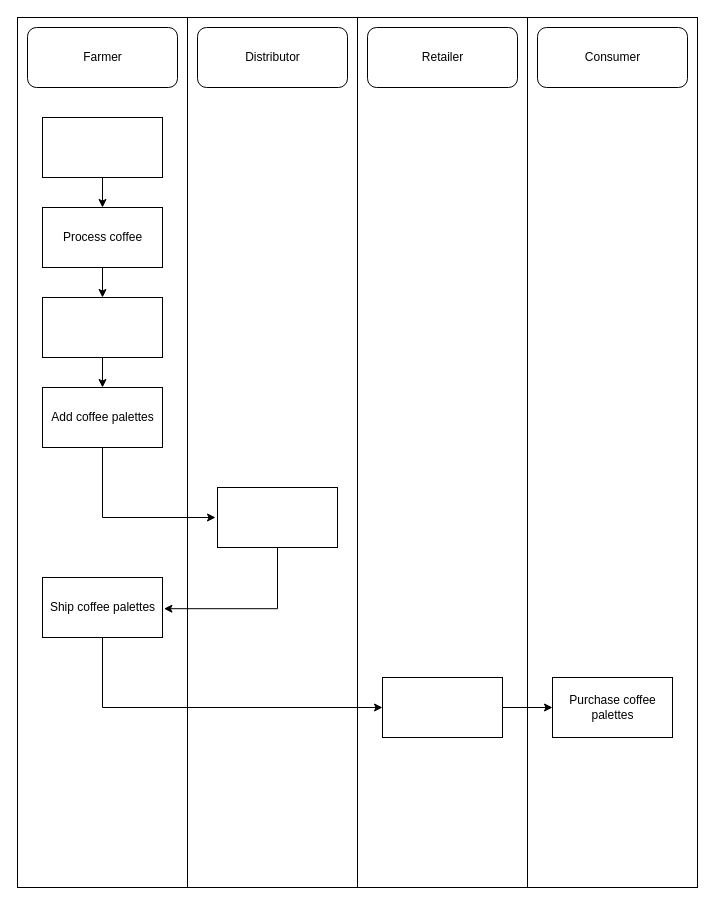
This 715x905 diagram has some shape labels left out. Here are the shapes that lost their labels. From the top down, the centre of each, then its label:
At (102,147): "Harvest coffee".
At (102,327): "Pack coffee".
At (277,517): "Buy coffee palettes".
At (442,707): "Receive coffee palettes".
